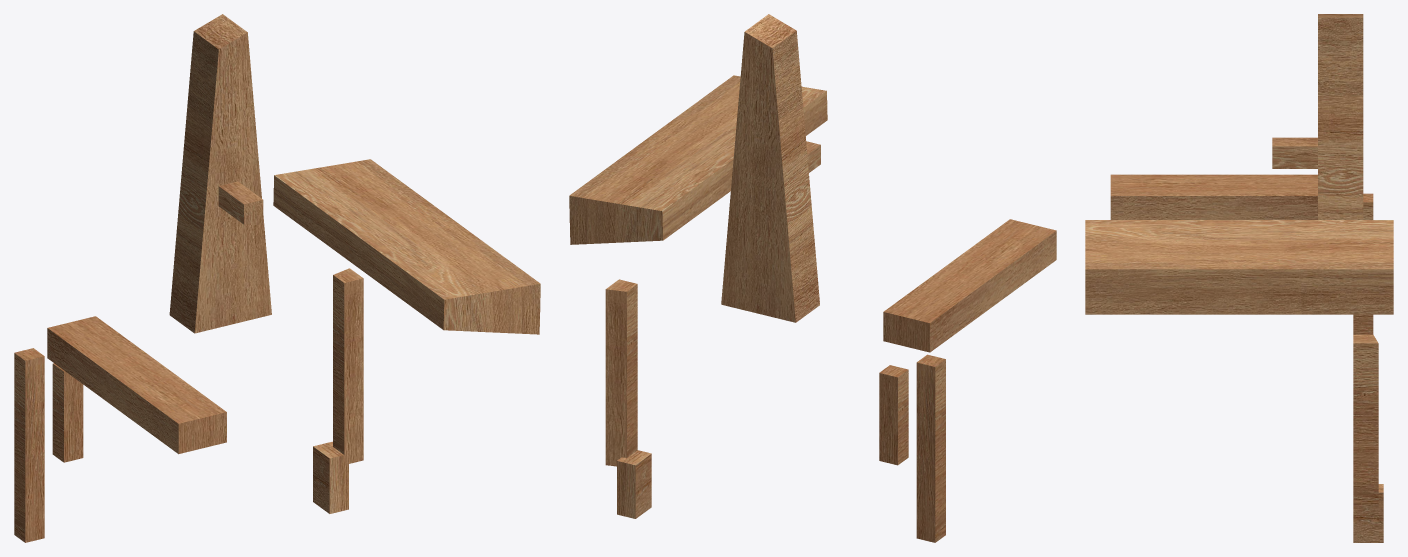
File: 3326_deepcad.glb
3 views of the same model, side by side, from view 1: azimuth 30°, elevation 25°; view 2: azimuth 150°, elevation 25°; view 3: azimuth 270°, elevation 25° (orthographic). The views are drawn at different scales.
Visible parts, largest first — view 1: test_cmd_3326_pred; view 2: test_cmd_3326_pred; view 3: test_cmd_3326_pred.
Part boxes in pixels (bbox=[...]): test_cmd_3326_pred: bbox=[14, 14, 540, 542]; test_cmd_3326_pred: bbox=[569, 14, 1056, 542]; test_cmd_3326_pred: bbox=[1085, 14, 1393, 542].
Size of the model in its own units: 0.7386 by 1 by 0.5922.
1 material, 1 textured.
